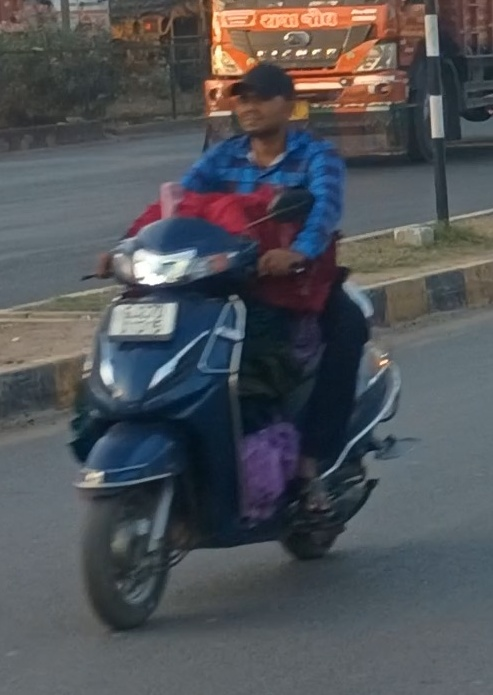BikeWithRider: (49, 57, 430, 638)
NoHelmet: (224, 56, 302, 137)
